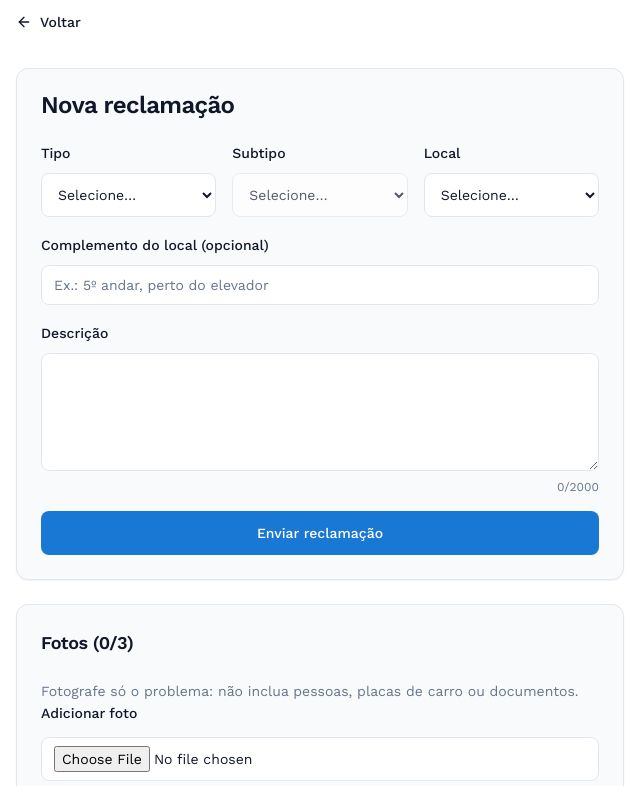
it: ComplaintFormPage (abrir) › mostra contador de caracteres
Select "Manutenção" in the dropdown labelled "Tipo" at (129, 195), box [41,173,216,217]
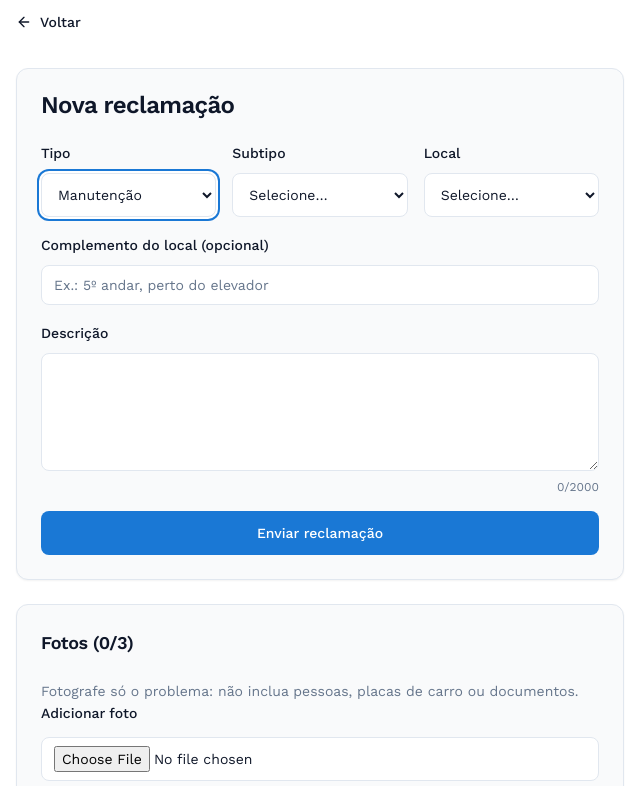
Select "Pintura" in the dropdown labelled "Subtipo" at (320, 195), box [232,173,408,217]
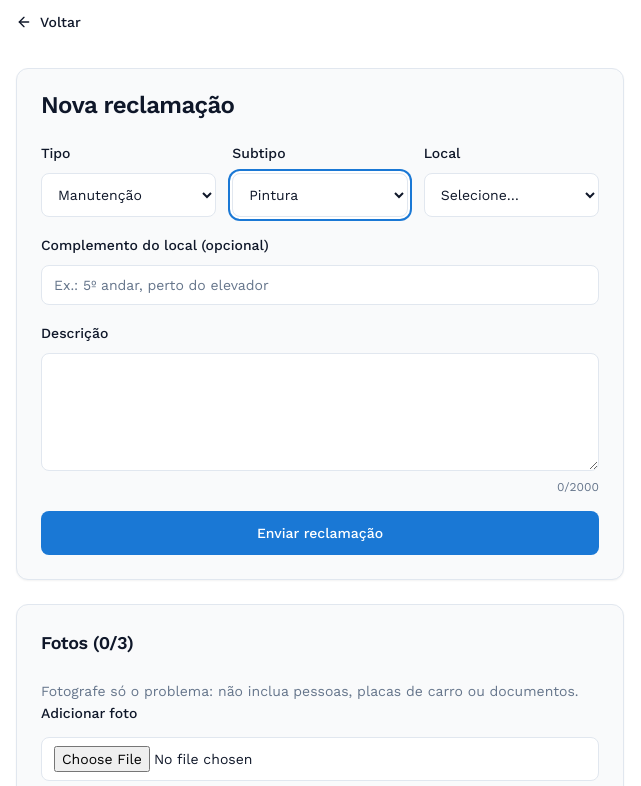
Select "Torre 2" in the dropdown labelled "Local" at (511, 195), box [424,173,599,217]
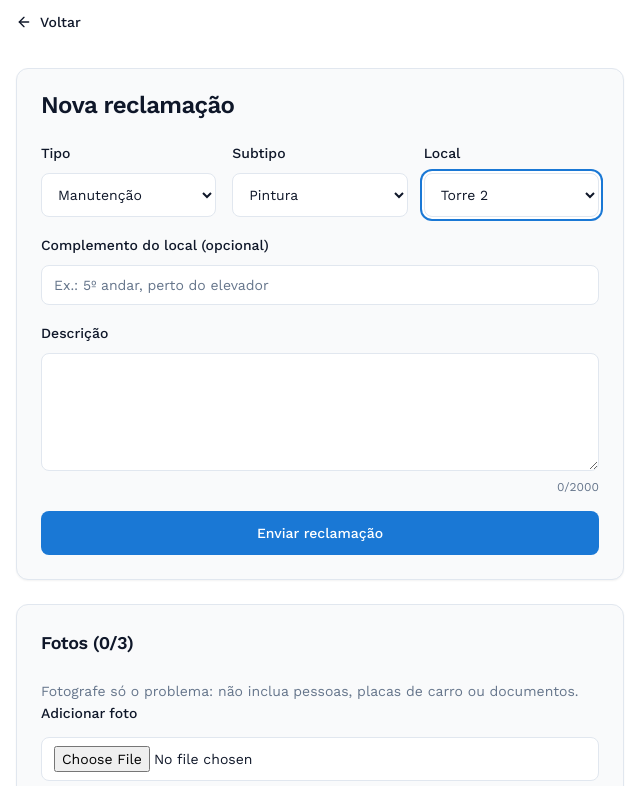
Type "Parede descascando no hall" into the text box labelled "Descrição".
click(320, 412); type("Parede descascando no hall")  # box [41,353,599,471]
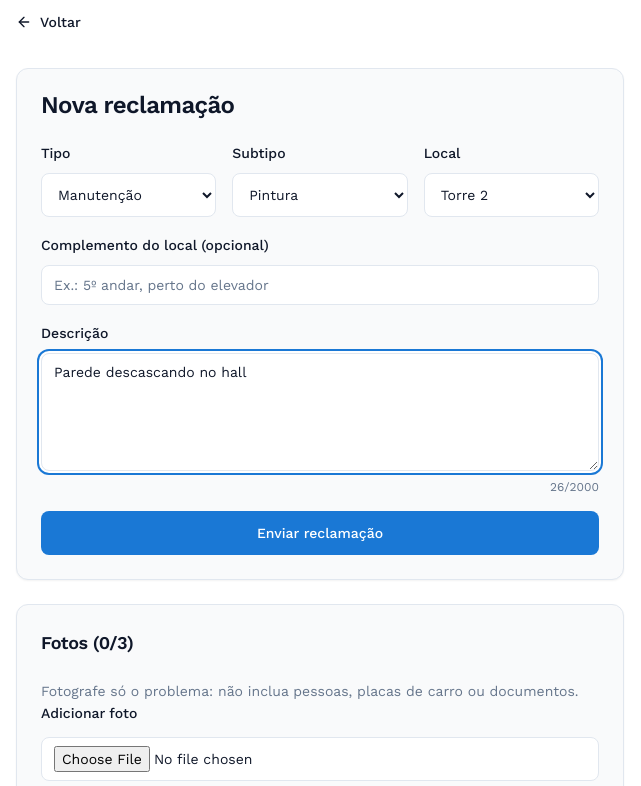
Result: the text "26/2000" is shown at [550,480,599,494]
